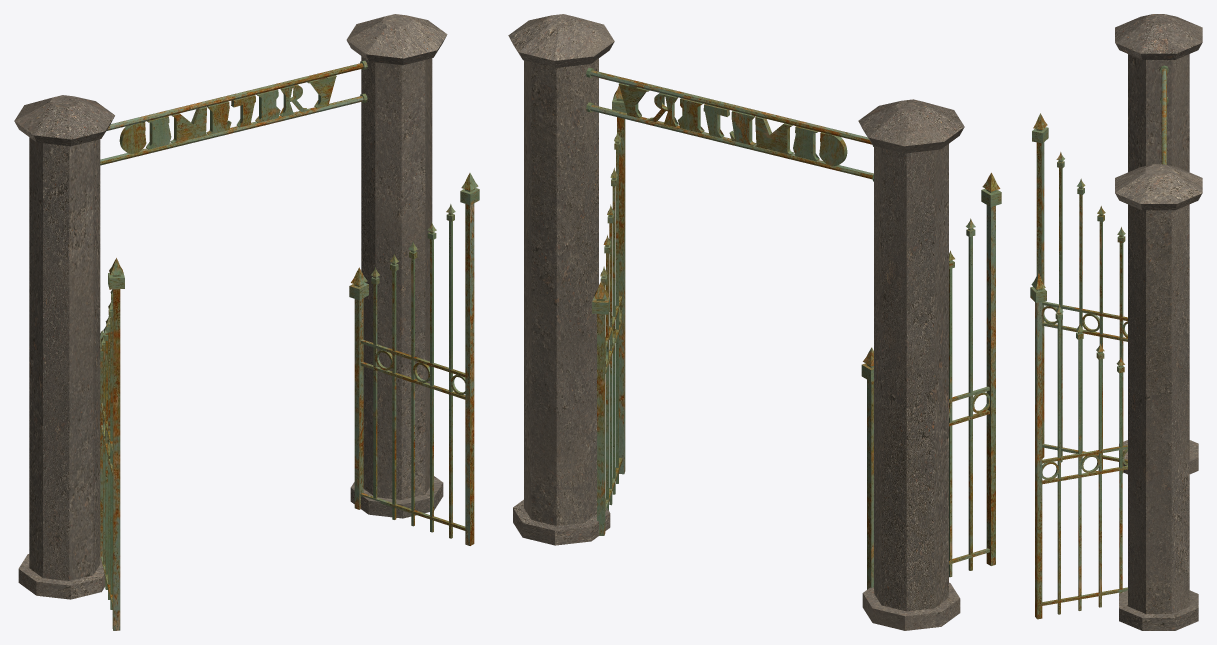
The model's file is Door-modified.fbx.
3 views of the same model, side by side, from view 1: azimuth 30°, elevation 25°; view 2: azimuth 150°, elevation 25°; view 3: azimuth 270°, elevation 25° (orthographic). The views are drawn at different scales.
Parts seen in each view (by area): view 1: column.L, column.R, gate.R, title, gate.L; view 2: column.L, column.R, gate.L, gate.R, title; view 3: column.R, column.L, gate.R, gate.L, title.
Boxes of the visible parts, left/top/right/bottom form: column.L: left=14, top=95, right=114, bottom=599; column.R: left=346, top=14, right=447, bottom=518; gate.R: left=349, top=173, right=479, bottom=545; title: left=100, top=60, right=367, bottom=165; gate.L: left=100, top=258, right=124, bottom=630; column.L: left=858, top=99, right=964, bottom=630; column.R: left=508, top=14, right=614, bottom=545; gate.L: left=861, top=172, right=1001, bottom=589; gate.R: left=592, top=85, right=626, bottom=535; title: left=586, top=67, right=873, bottom=181; column.R: left=1115, top=164, right=1202, bottom=630; column.L: left=1115, top=14, right=1202, bottom=474; gate.R: left=1030, top=273, right=1127, bottom=619; gate.L: left=1032, top=113, right=1127, bottom=473; title: left=1160, top=65, right=1168, bottom=164.
Bounding box in the file's own units: 921 × 1019 × 358.
2 materials, 2 textured.
